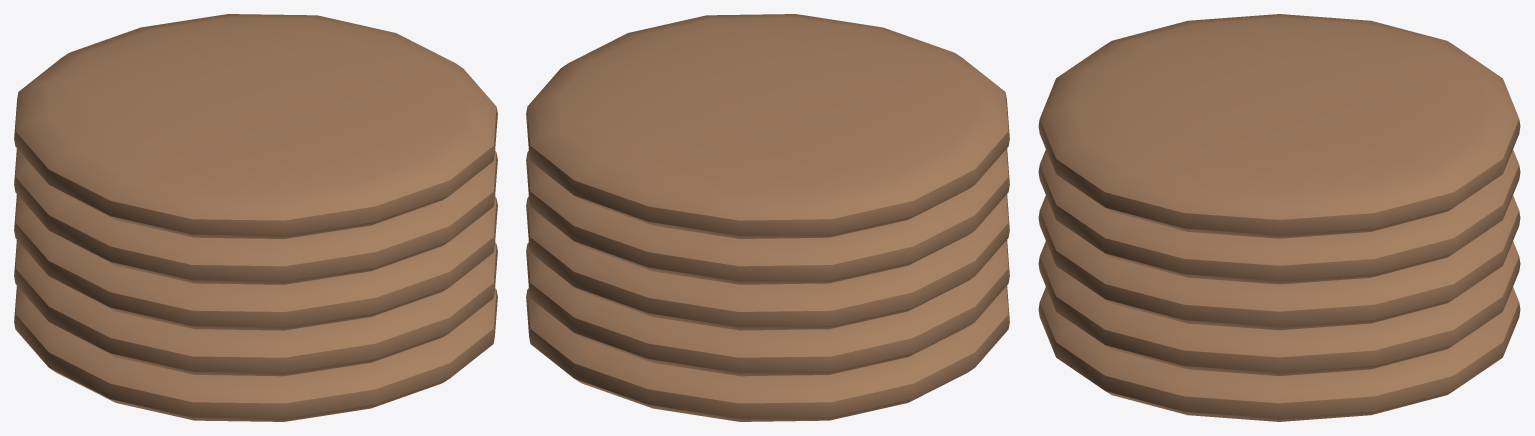
Rendered from nalesniki.fbx.
The picture shows the model from 3 angles, left to right: view 1: azimuth 30°, elevation 25°; view 2: azimuth 150°, elevation 25°; view 3: azimuth 270°, elevation 25°; orthographic projection.
Visible parts, largest first — view 1: Cube.001; view 2: Cube.001; view 3: Cube.001.
Part boxes in pixels (box(x1,y1,x2,y2)): Cube.001: box(14, 14, 497, 421); Cube.001: box(526, 14, 1009, 421); Cube.001: box(1038, 14, 1520, 421).
Size of the model in its own units: 183 by 183 by 101.
